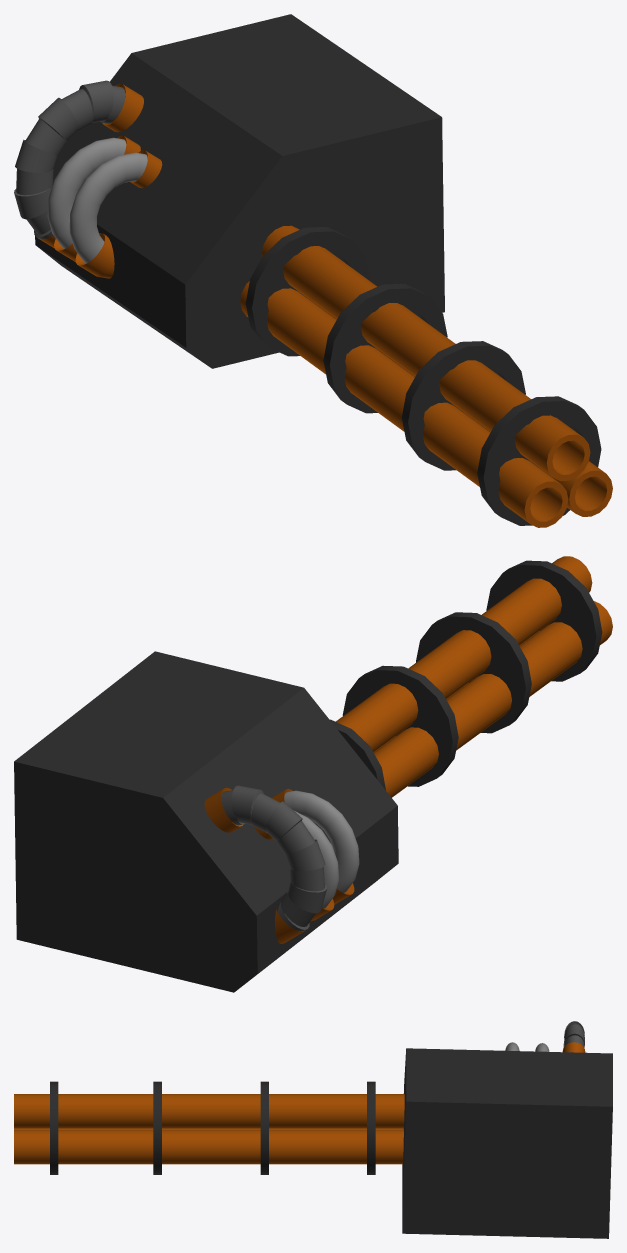
The model's file is leftDestroyed.fbx.
3 renders of one model, top to bottom at view 1: azimuth 30°, elevation 25°; view 2: azimuth 150°, elevation 25°; view 3: azimuth 270°, elevation 25°, orthographic. The views are drawn at different scales.
Parts seen in each view (by area): view 1: polySurface181, pCylinder65; view 2: polySurface181, pCylinder65; view 3: polySurface181, pCylinder65.
Part boxes in pixels (x1=…): polySurface181: x1=14, y1=14, x2=444, y2=368; pCylinder65: x1=240, y1=225, x2=612, y2=527; polySurface181: x1=14, y1=651, x2=398, y2=992; pCylinder65: x1=330, y1=556, x2=612, y2=797; polySurface181: x1=402, y1=1021, x2=612, y2=1238; pCylinder65: x1=14, y1=1081, x2=404, y2=1174.
Size of the model in its own units: 1.52 by 0.954 by 3.77.
